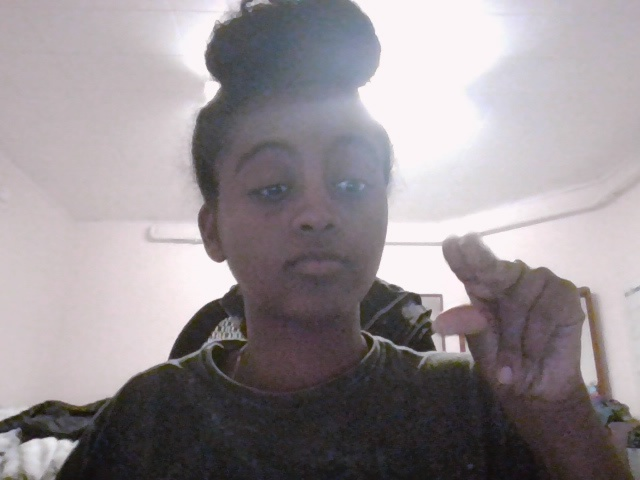No: (425, 227, 602, 419)
